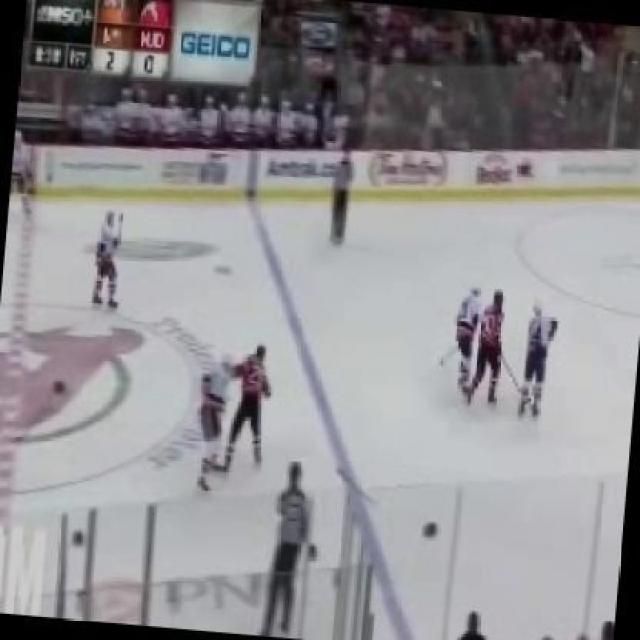fight: (186, 339, 273, 486)
non-fight: (85, 209, 129, 309)
